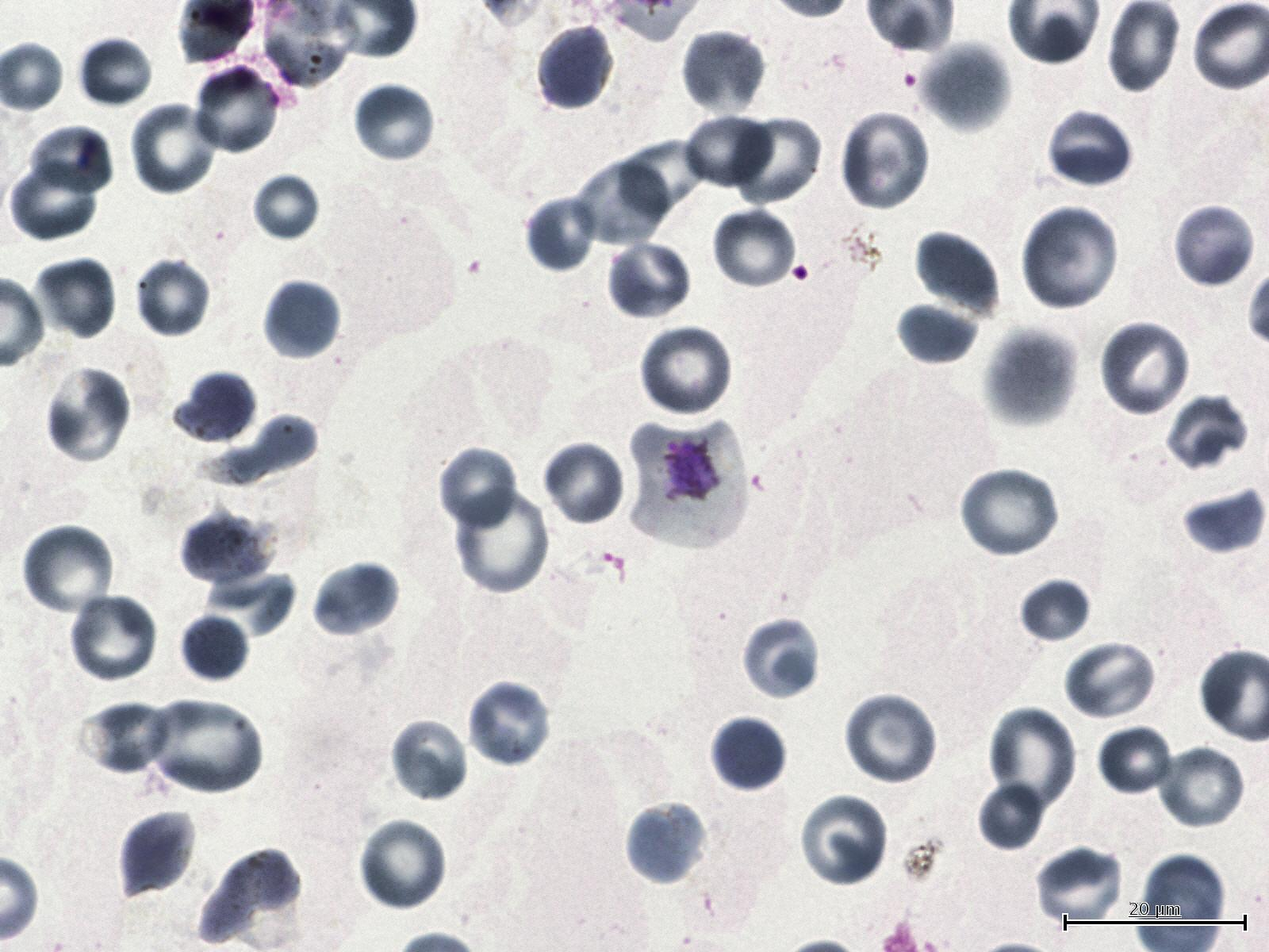Infected: (629, 425, 747, 549)
Uninfected: (148, 697, 261, 793), (1021, 207, 1120, 312), (455, 489, 551, 595), (839, 110, 930, 213), (960, 466, 1060, 559), (984, 328, 1077, 428), (987, 706, 1077, 809), (199, 850, 299, 941), (571, 159, 673, 248), (22, 525, 117, 620), (1098, 320, 1190, 418), (128, 99, 219, 198), (728, 117, 822, 211), (44, 366, 132, 466), (639, 323, 732, 417), (797, 793, 888, 889), (358, 817, 448, 912), (69, 592, 158, 686), (918, 44, 1008, 136), (192, 64, 280, 156), (1154, 744, 1247, 831), (1064, 638, 1158, 723), (911, 228, 1000, 317), (846, 699, 938, 783), (211, 415, 317, 487), (179, 510, 273, 591), (466, 678, 551, 767), (681, 28, 766, 117), (605, 237, 692, 323), (535, 20, 615, 112), (1106, 0, 1181, 97), (32, 255, 117, 340), (1173, 202, 1256, 289), (681, 111, 776, 187), (438, 445, 519, 534), (117, 808, 197, 898), (542, 440, 626, 525), (711, 208, 797, 291), (1046, 108, 1133, 190), (623, 801, 706, 886), (389, 717, 470, 804), (312, 560, 400, 640), (353, 82, 436, 165), (1141, 854, 1222, 938), (1163, 393, 1248, 473), (740, 616, 819, 701), (171, 367, 257, 445), (1034, 846, 1121, 923), (263, 278, 342, 362), (11, 165, 98, 240), (80, 705, 174, 773), (617, 142, 707, 213), (708, 714, 787, 794), (1179, 486, 1267, 556), (136, 257, 212, 338), (977, 776, 1052, 857), (1096, 724, 1175, 799), (77, 34, 154, 110), (895, 299, 980, 367), (1016, 574, 1091, 650), (176, 610, 251, 686), (29, 125, 111, 194), (525, 196, 596, 274), (205, 572, 294, 632), (251, 175, 319, 240)
